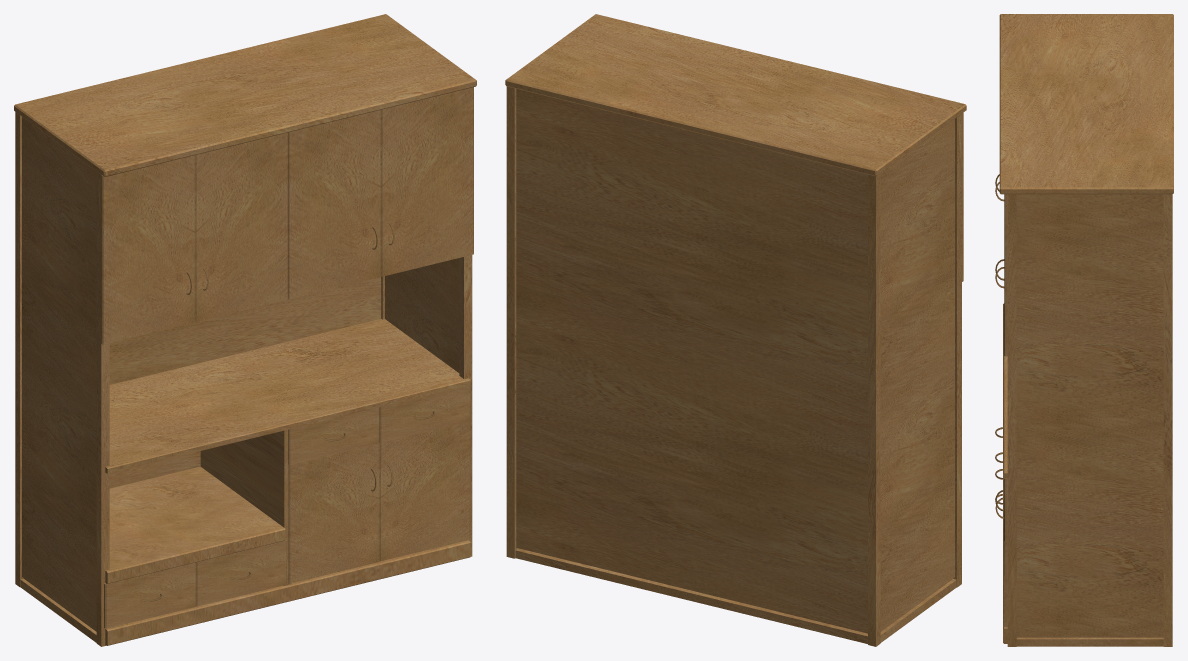
Rendered from cupboard_A_c01.fbx.
3 renders of one model, left to right at view 1: azimuth 30°, elevation 25°; view 2: azimuth 150°, elevation 25°; view 3: azimuth 270°, elevation 25°, orthographic. The views are drawn at different scales.
Parts seen in each view (by area): view 1: cupboard_A_c01; view 2: cupboard_A_c01; view 3: cupboard_A_c01.
Boxes of the visible parts, x1,y1,x2,y2 form: cupboard_A_c01: (14,14,476,646); cupboard_A_c01: (505,14,966,646); cupboard_A_c01: (995,14,1173,646).
Size of the model in its own units: 141 by 173 by 60.91.
1 material, 1 textured.
